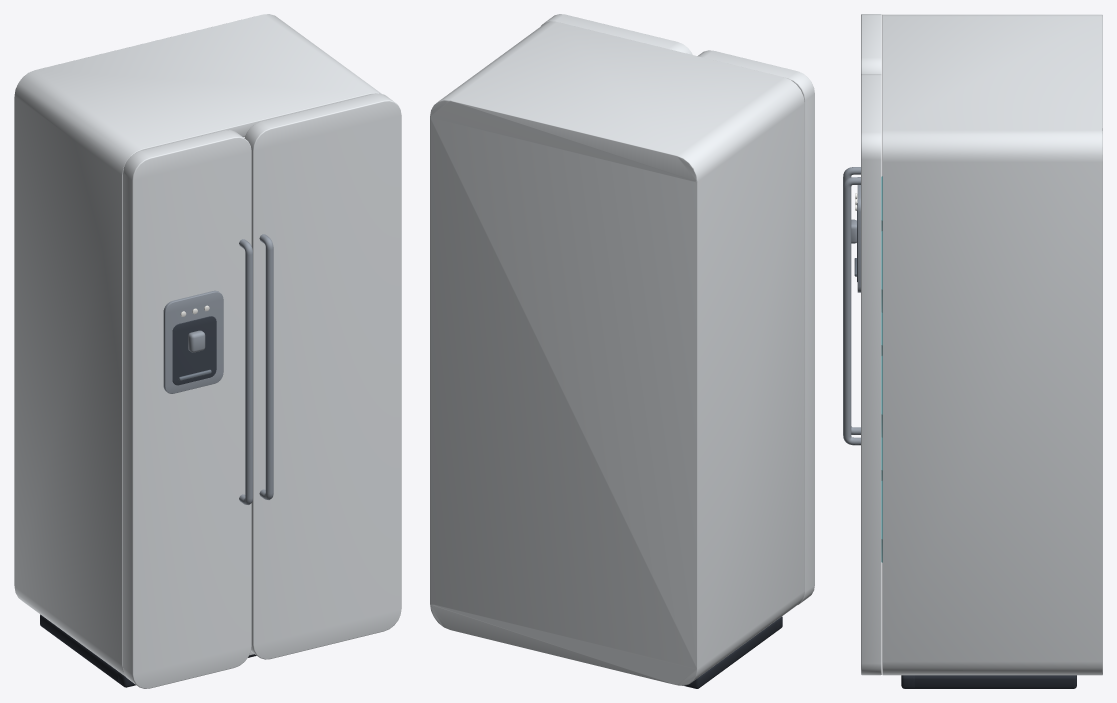
File: geladeira_duplex_branca.glb
The picture shows the model from 3 angles, left to right: view 1: azimuth 30°, elevation 25°; view 2: azimuth 150°, elevation 25°; view 3: azimuth 270°, elevation 25°; orthographic projection. The views are drawn at different scales.
Visible parts, largest first — view 1: geladeira_duplex_branca, porta_geladeira, porta_freezer; view 2: geladeira_duplex_branca, porta_freezer, porta_geladeira; view 3: geladeira_duplex_branca, porta_geladeira, porta_freezer.
Boxes of the visible parts, box(x1,y1,x2,y2) form: geladeira_duplex_branca: box(14, 14, 381, 687); porta_geladeira: box(244, 93, 401, 659); porta_freezer: box(123, 130, 252, 688); geladeira_duplex_branca: box(430, 21, 804, 688); porta_freezer: box(697, 50, 814, 604); porta_geladeira: box(541, 14, 692, 54); geladeira_duplex_branca: box(882, 14, 1102, 688); porta_geladeira: box(843, 74, 882, 675); porta_freezer: box(843, 14, 882, 480).
Size of the model in its own units: 0.92 by 1.78 by 0.754.
2 materials, 1 textured.
